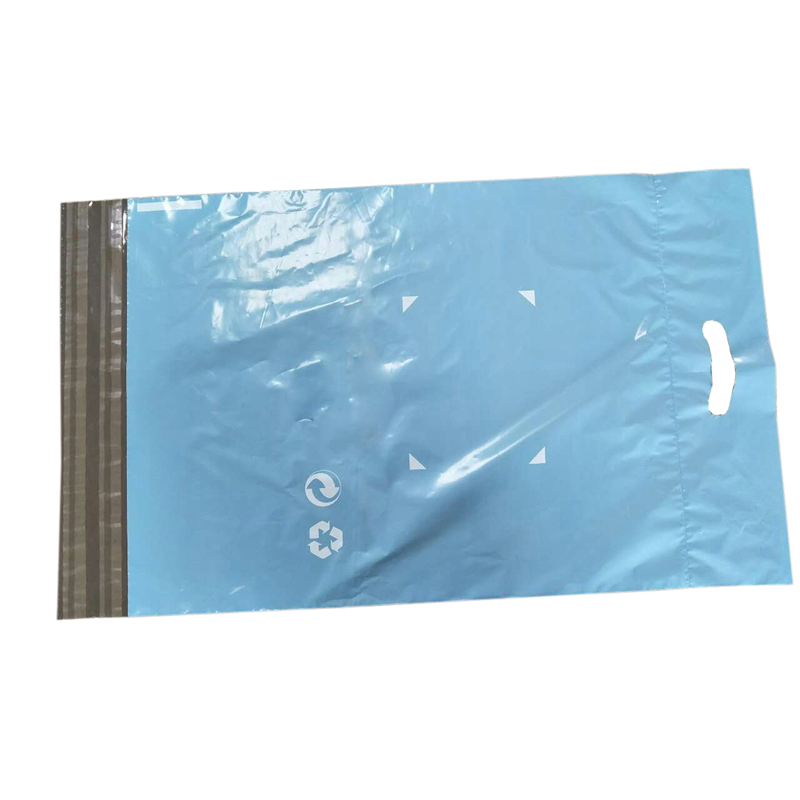Parcel: (58, 170, 791, 618)
